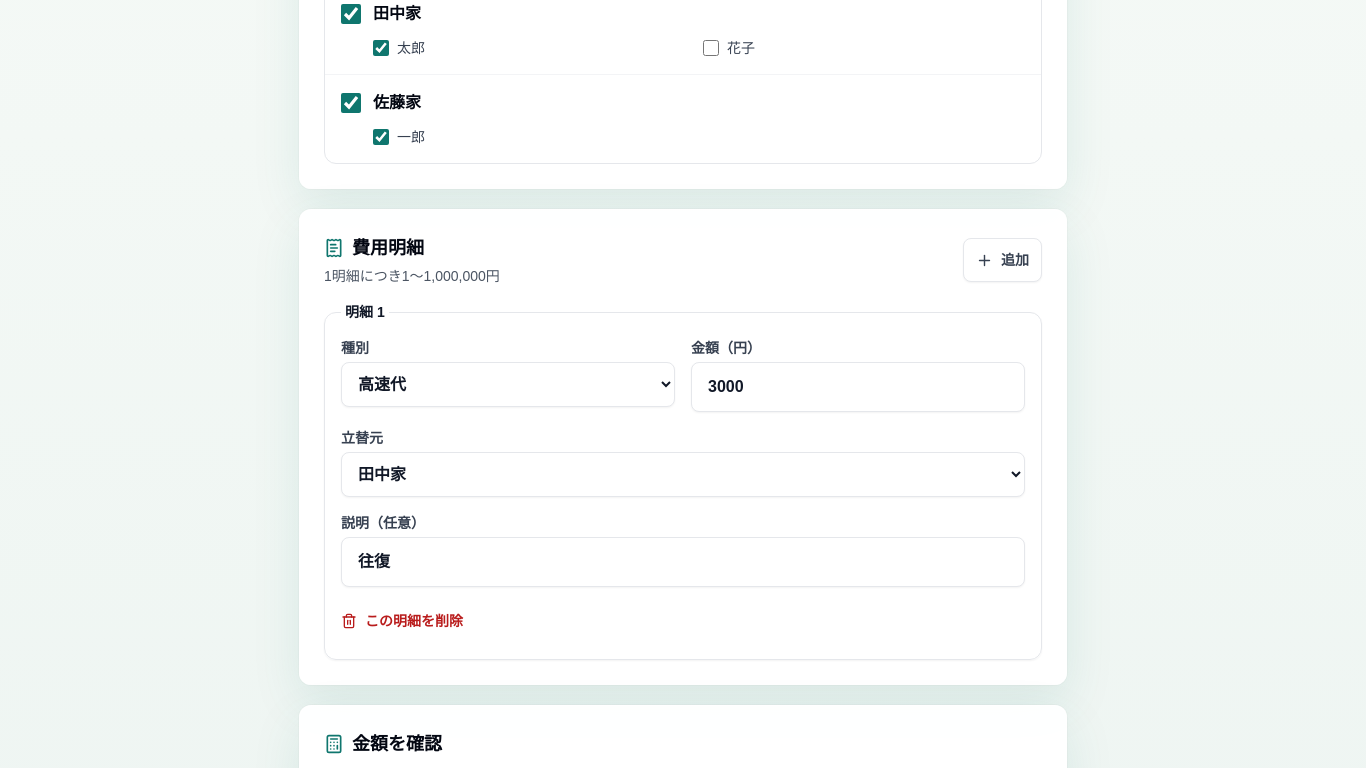
Test case: その他交通費は説明がなければ計算しない
(page scrolled)
Step 1. Select "その他交通費" in the dropdown labelled "種別" → (508, 384), box [341, 362, 675, 407]
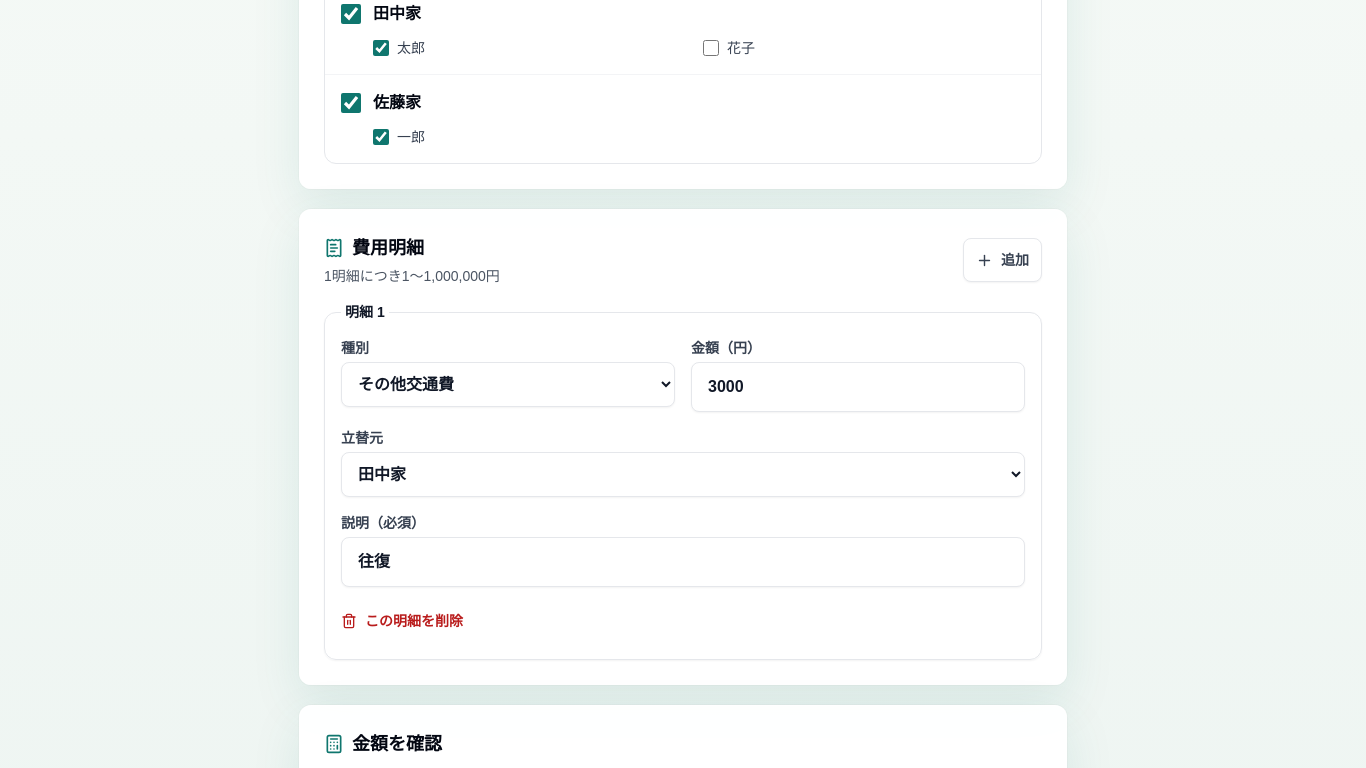
Step 2. Clear the field labelled "説明（必須）" → (683, 562), box [341, 537, 1025, 587]
(page scrolled)
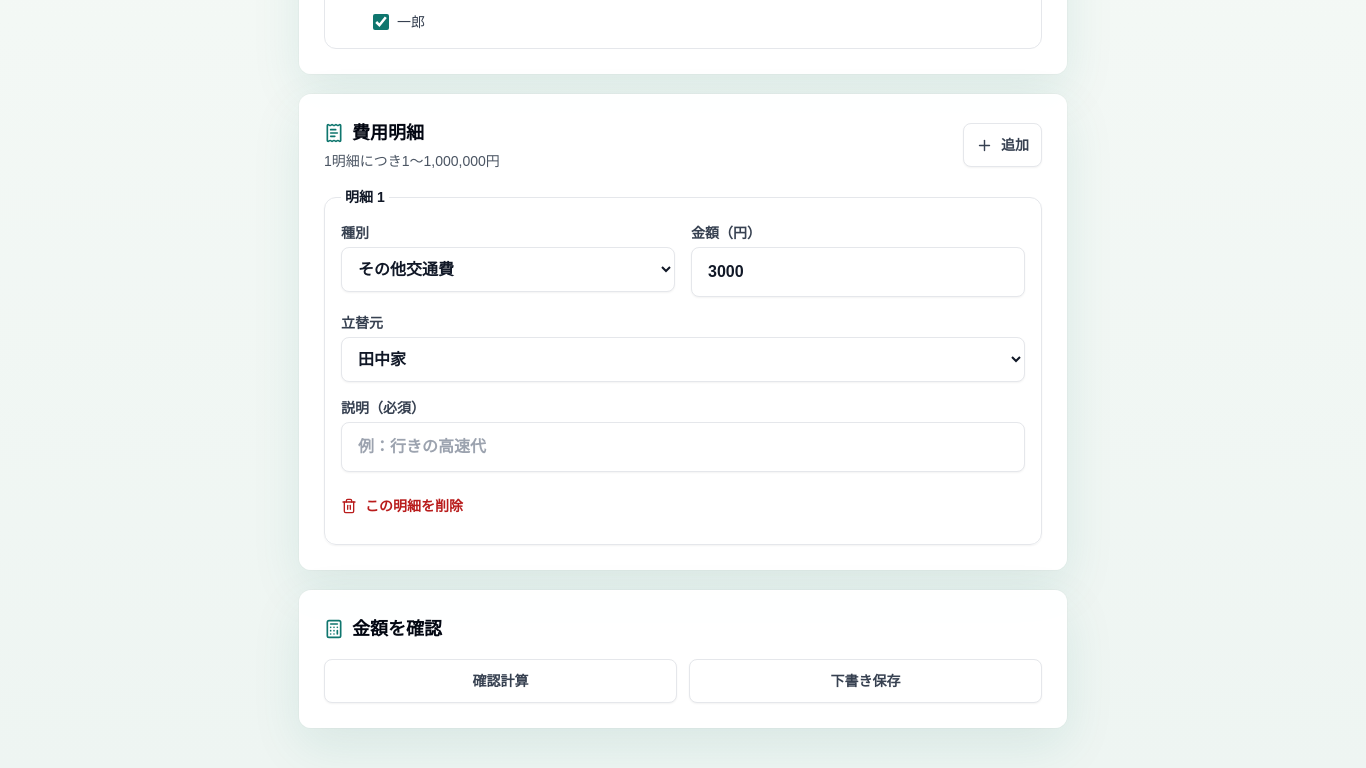
Step 3. Click the button "確認計算" → (500, 681), box [324, 659, 677, 703]
(page scrolled)
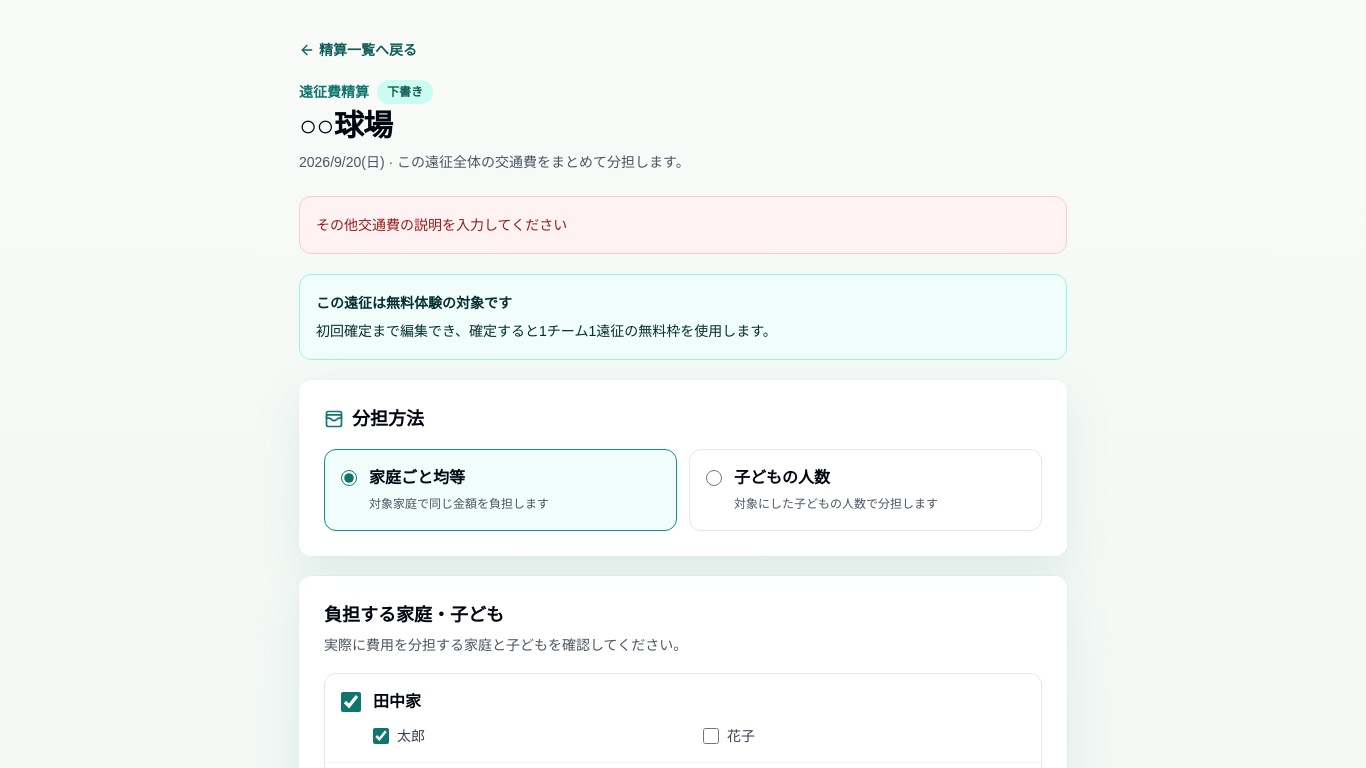
Now the message reads "その他交通費の説明を入力してください", box [316, 217, 567, 233]
